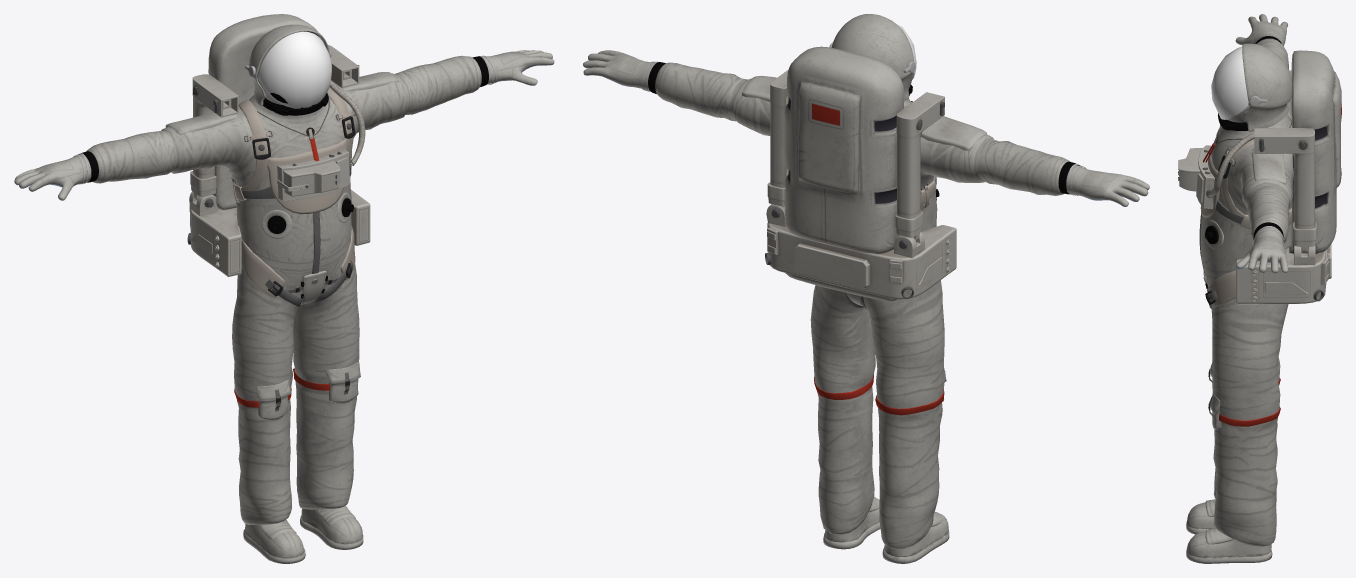
Rendered from adam fazai.fbx.
The picture shows the model from 3 angles, left to right: view 1: azimuth 30°, elevation 25°; view 2: azimuth 150°, elevation 25°; view 3: azimuth 270°, elevation 25°; orthographic projection. The views are drawn at different scales.
Parts seen in each view (by area): view 1: Group, Object_1; view 2: Group; view 3: Group, Object_1.
Part boxes in pixels (box(x1,y1,x2,y2)): Group: box(14, 14, 554, 563); Object_1: box(258, 31, 331, 108); Group: box(583, 14, 1149, 563); Group: box(1178, 14, 1341, 563); Object_1: box(1211, 46, 1248, 119).
Size of the model in its own units: 2.62 by 2.37 by 0.7119.
Materials: 4 (2 with a texture image).
